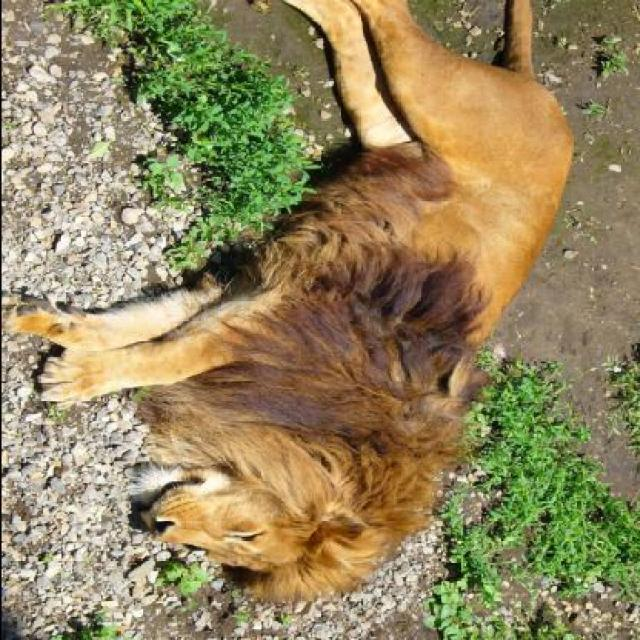Lion: (1, 4, 617, 622)
